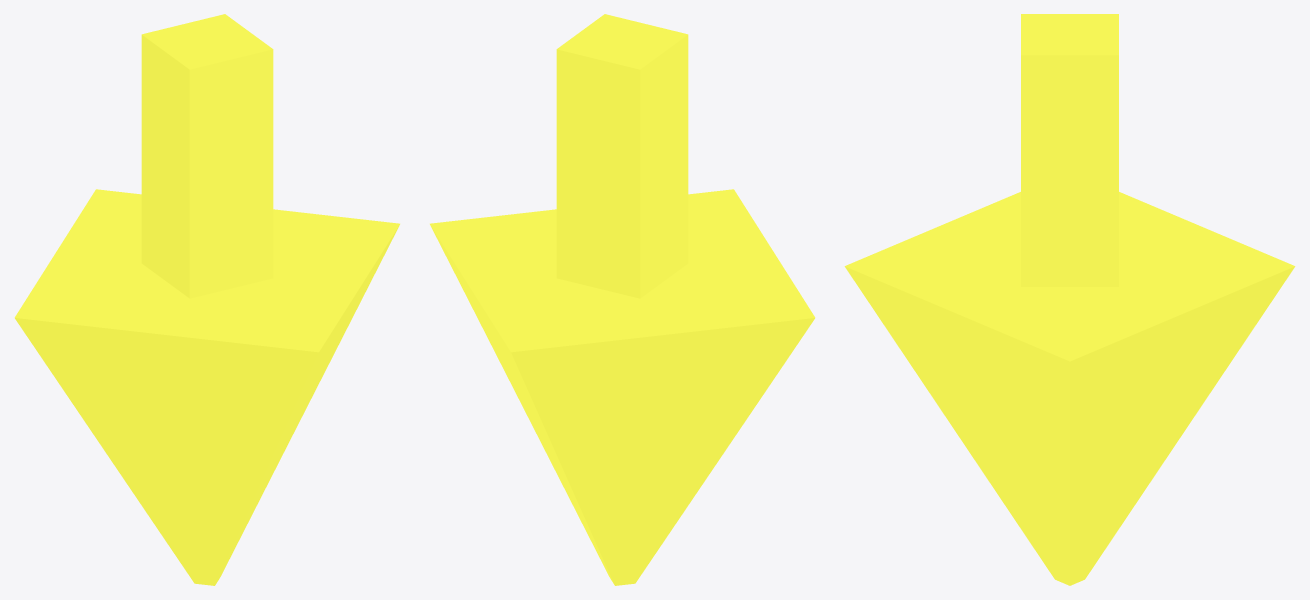
Rendered from Env_Arrow.fbx.
The picture shows the model from 3 angles, left to right: view 1: azimuth 30°, elevation 25°; view 2: azimuth 150°, elevation 25°; view 3: azimuth 270°, elevation 25°; orthographic projection.
Parts seen in each view (by area): view 1: Env_Arrow; view 2: Env_Arrow; view 3: Env_Arrow.
Boxes of the visible parts, x1,y1,x2,y2 form: Env_Arrow: [14, 14, 399, 585]; Env_Arrow: [430, 14, 815, 585]; Env_Arrow: [844, 14, 1295, 585].
Size of the model in its own units: 0.6 by 0.6 by 0.8.
